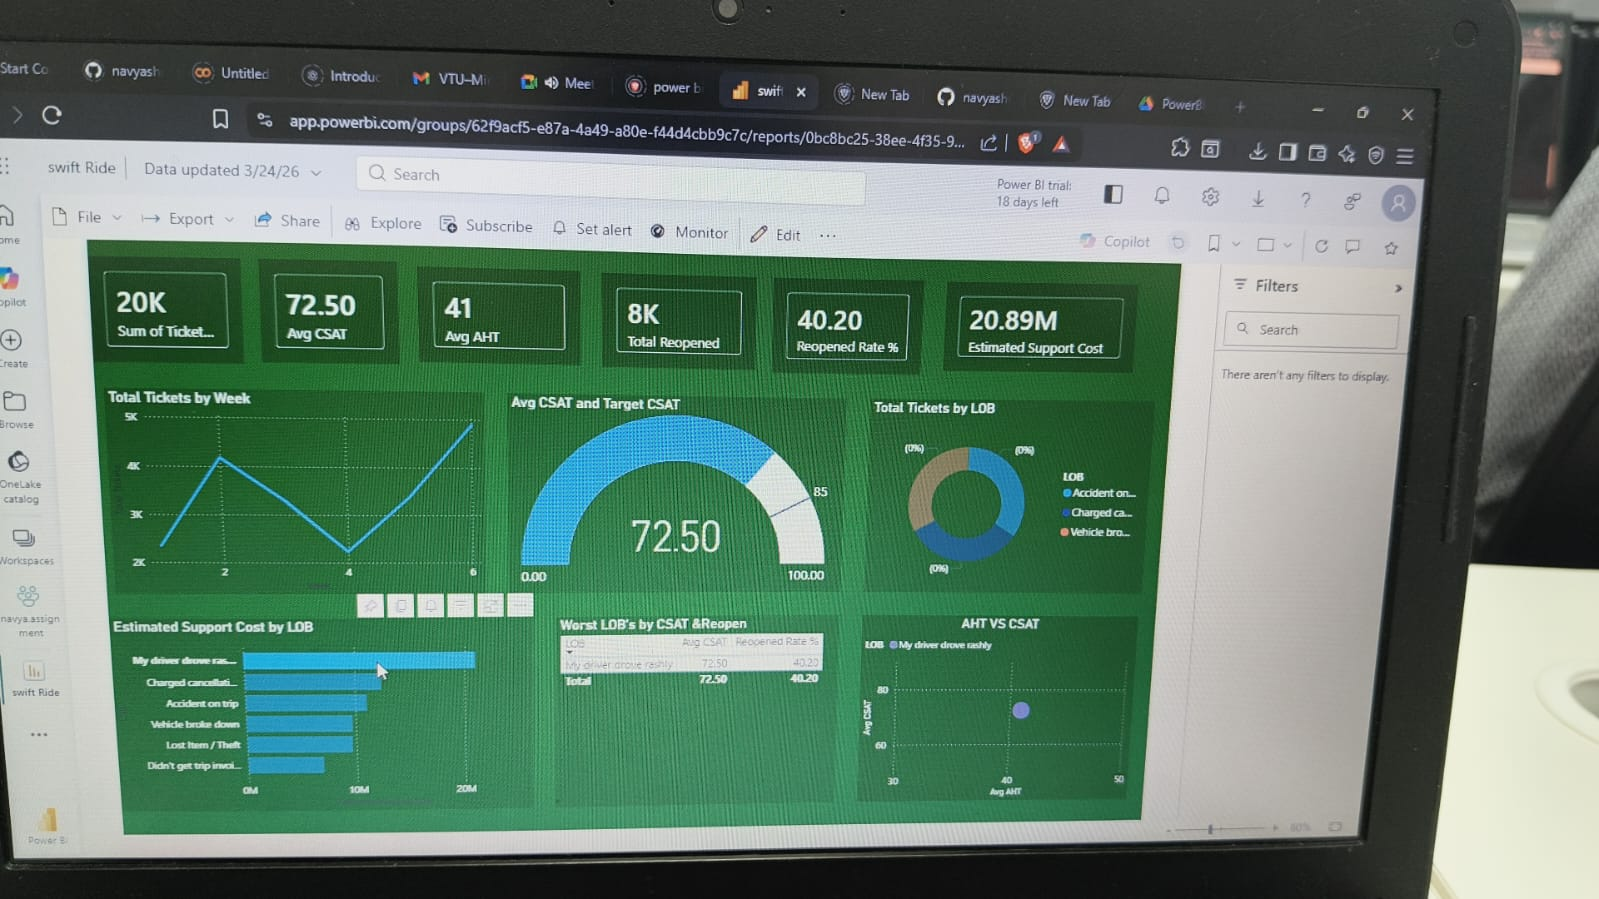

The dashboard page shown, as its layout file describes it:
{"tool":"powerbi","page":{"name":"Page 1","canvas":[1280,720],"ordinal":0},"visuals":[{"type":"cardVisual","fields":{"Data":["Sum(Swift Ride.Ticket Volume)"]},"box":[0,18.5,171.3,120.9],"z":0},{"type":"cardVisual","fields":{"Data":["Swift Ride.Avg CSAT"]},"box":[191.5,18.5,156.2,119.3],"z":1000},{"type":"cardVisual","fields":{"Data":["Swift Ride.Avg AHT"]},"box":[369.6,23.5,184.8,110.9],"z":2000},{"type":"cardVisual","fields":{"Data":["Swift Ride.Total Reopened"]},"box":[579.5,25.2,183.1,110.9],"z":3000},{"type":"cardVisual","fields":{"Data":["Swift Ride.Reopened Rate %"]},"box":[782.8,25.2,183.1,114.2],"z":4000},{"type":"cardVisual","fields":{"Data":["Swift Ride.Estimated Support Cost"]},"box":[994.4,26.9,235.2,107.5],"z":5000},{"type":"lineChart","fields":{"Y":["Swift Ride.Total Tickets"],"Category":["Swift Ride.Week"]},"box":[10.1,169.7,431.7,245.2],"z":6000},{"type":"gauge","fields":{"TargetValue":["Swift Ride.Target CCAT"],"Y":["Swift Ride.Avg CSAT"]},"box":[468.7,169.7,406.5,245.2],"z":7000},{"type":"donutChart","fields":{"Category":["Swift Ride.LOB"],"Y":["Swift Ride.Total Tickets"]},"box":[905.4,169.7,354.4,245.2],"z":8000},{"type":"barChart","fields":{"Category":["Swift Ride.LOB"],"Y":["Swift Ride.Estimated Support Cost"]},"box":[0,445,498.3,245],"z":9000},{"type":"tableEx","title":"Worst LOB''s by CSAT &Reopen","fields":{"Values":["Swift Ride.LOB","Swift Ride.Avg CSAT","Swift Ride.Reopened Rate %"]},"box":[525,445,350,245],"z":10000},{"type":"scatterChart","title":"AHT VS CSAT","fields":{"X":["Swift Ride.Avg AHT"],"Y":["Swift Ride.Avg CSAT"],"Series":["Swift Ride.LOB"],"Size":["Swift Ride.Total Tickets"]},"box":[905,445,353.3,245],"z":11000}]}

Visuals, with their boxes on the page's 1280x720 design canvas (x1, y1, x2, y2). These are canvas units, not pixel positions in the 1599x899 screenshot, which may show the page scaled, cropped or inside an application window:
cardVisual - Sum(Swift Ride.Ticket Volume): 0,18,171,139
cardVisual - Swift Ride.Avg CSAT: 192,18,348,138
cardVisual - Swift Ride.Avg AHT: 370,24,554,134
cardVisual - Swift Ride.Total Reopened: 580,25,763,136
cardVisual - Swift Ride.Reopened Rate %: 783,25,966,139
cardVisual - Swift Ride.Estimated Support Cost: 994,27,1230,134
lineChart - Swift Ride.Total Tickets x Swift Ride.Week: 10,170,442,415
gauge - Swift Ride.Target CCAT x Swift Ride.Avg CSAT: 469,170,875,415
donutChart - Swift Ride.LOB x Swift Ride.Total Tickets: 905,170,1260,415
barChart - Swift Ride.LOB x Swift Ride.Estimated Support Cost: 0,445,498,690
"Worst LOB''s by CSAT &Reopen" tableEx: 525,445,875,690
"AHT VS CSAT" scatterChart: 905,445,1258,690
